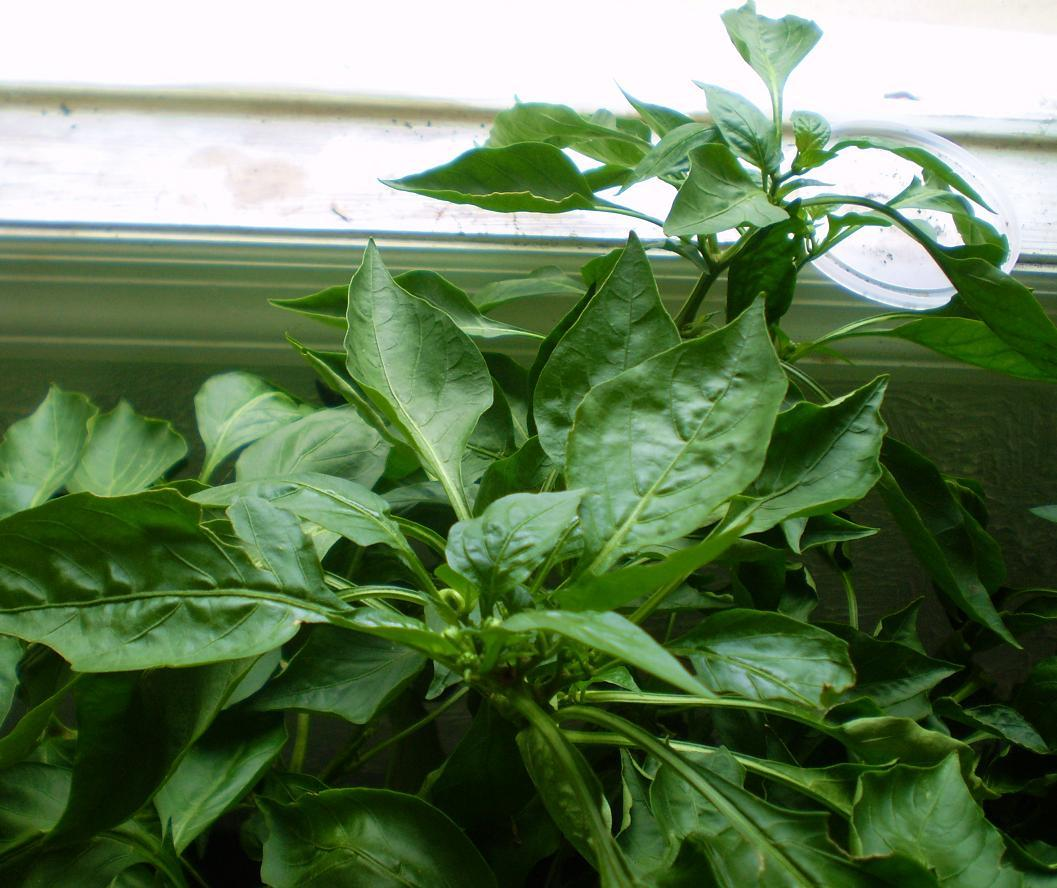Bell_pepper leaf spot: (15, 486, 334, 665), (575, 296, 784, 563), (327, 224, 495, 504), (530, 223, 686, 482), (645, 740, 844, 888), (850, 749, 1050, 888), (758, 370, 892, 527), (675, 598, 856, 707), (12, 380, 183, 491), (235, 404, 390, 526), (383, 143, 593, 218), (881, 303, 1057, 387), (658, 135, 793, 244), (939, 248, 1057, 368), (189, 365, 319, 455), (719, 2, 830, 93)
